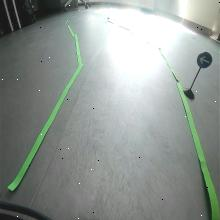left: (196, 50, 212, 70)
